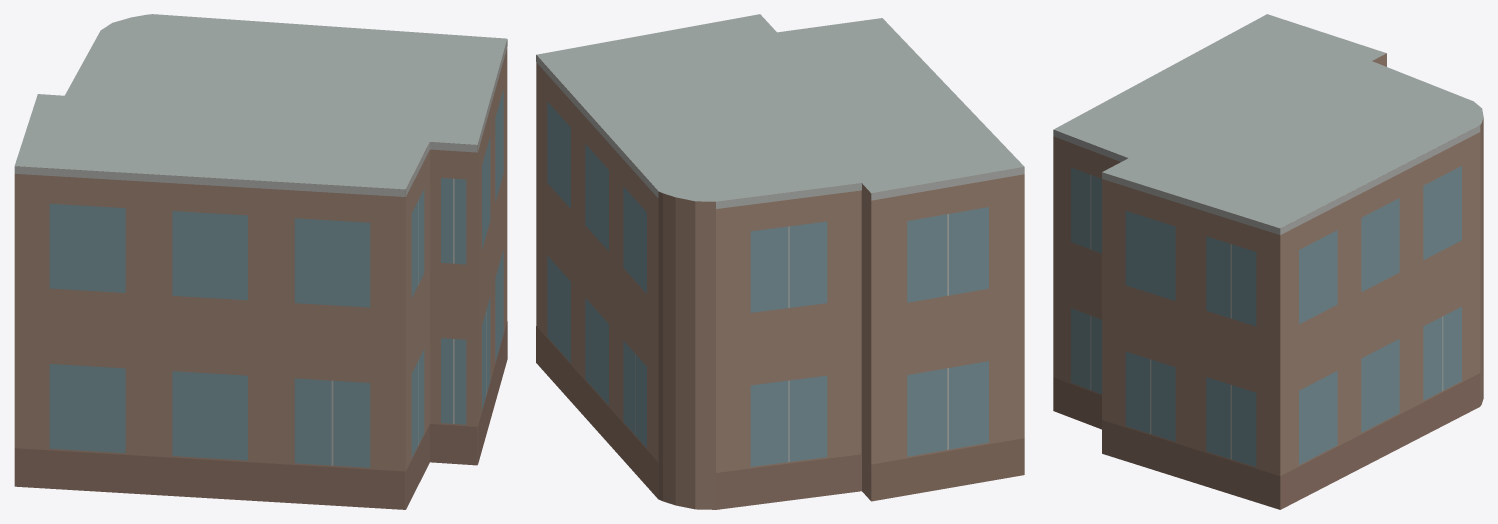
File: survey-upis-32499155.glb
The picture shows the model from 3 angles, left to right: view 1: azimuth 30°, elevation 25°; view 2: azimuth 150°, elevation 25°; view 3: azimuth 270°, elevation 25°; orthographic projection. The views are drawn at different scales.
Parts seen in each view (by area): view 1: survey-upis-32499155.tmp; view 2: survey-upis-32499155.tmp; view 3: survey-upis-32499155.tmp.
Part boxes in pixels (x1=…): survey-upis-32499155.tmp: x1=14, y1=14, x2=507, y2=509; survey-upis-32499155.tmp: x1=536, y1=14, x2=1024, y2=509; survey-upis-32499155.tmp: x1=1053, y1=14, x2=1483, y2=509.
Bounding box in the file's own units: 16.68 × 10.2 × 14.14.
